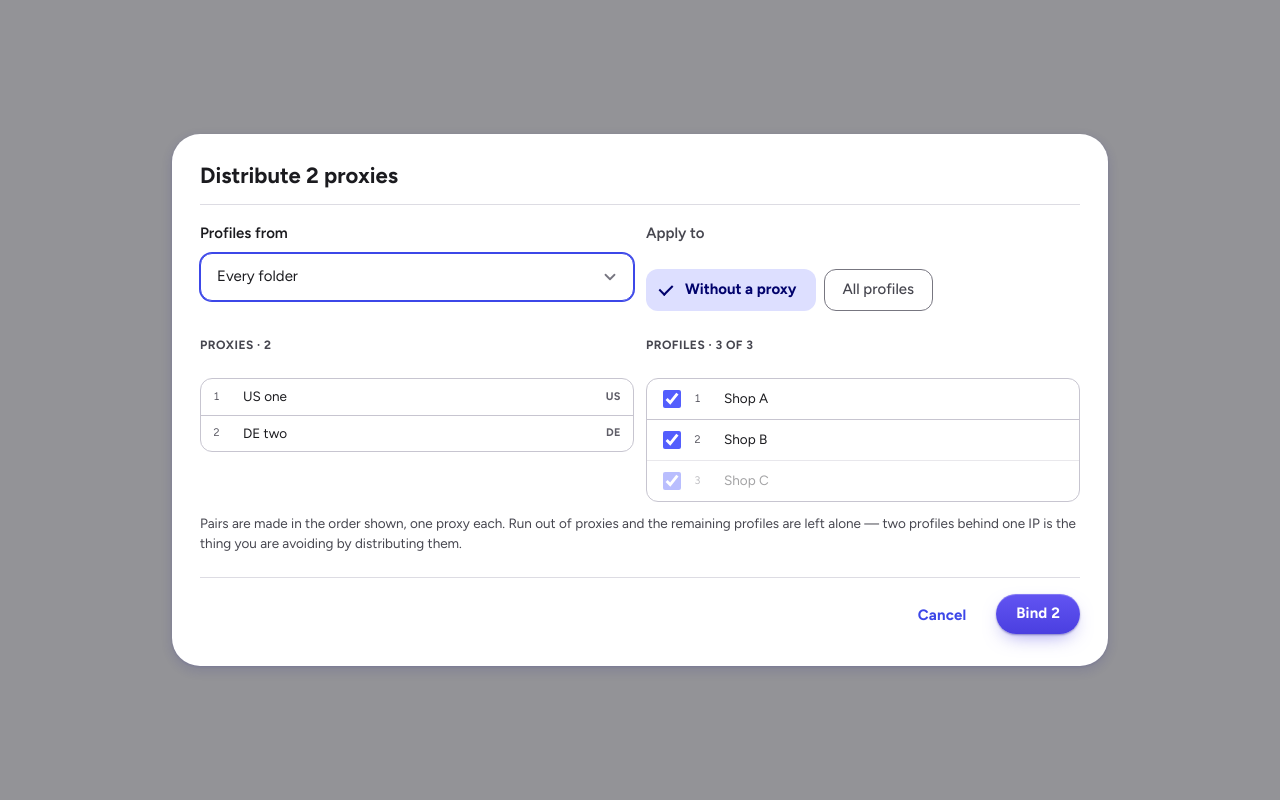
Test: ProxyDistributeModal › warns before replacing proxies when 'All profiles' is chosen
Check: the message is not shown
Click the radio button labelled "All profiles": {"x": 878, "y": 290} [824,269,933,311]
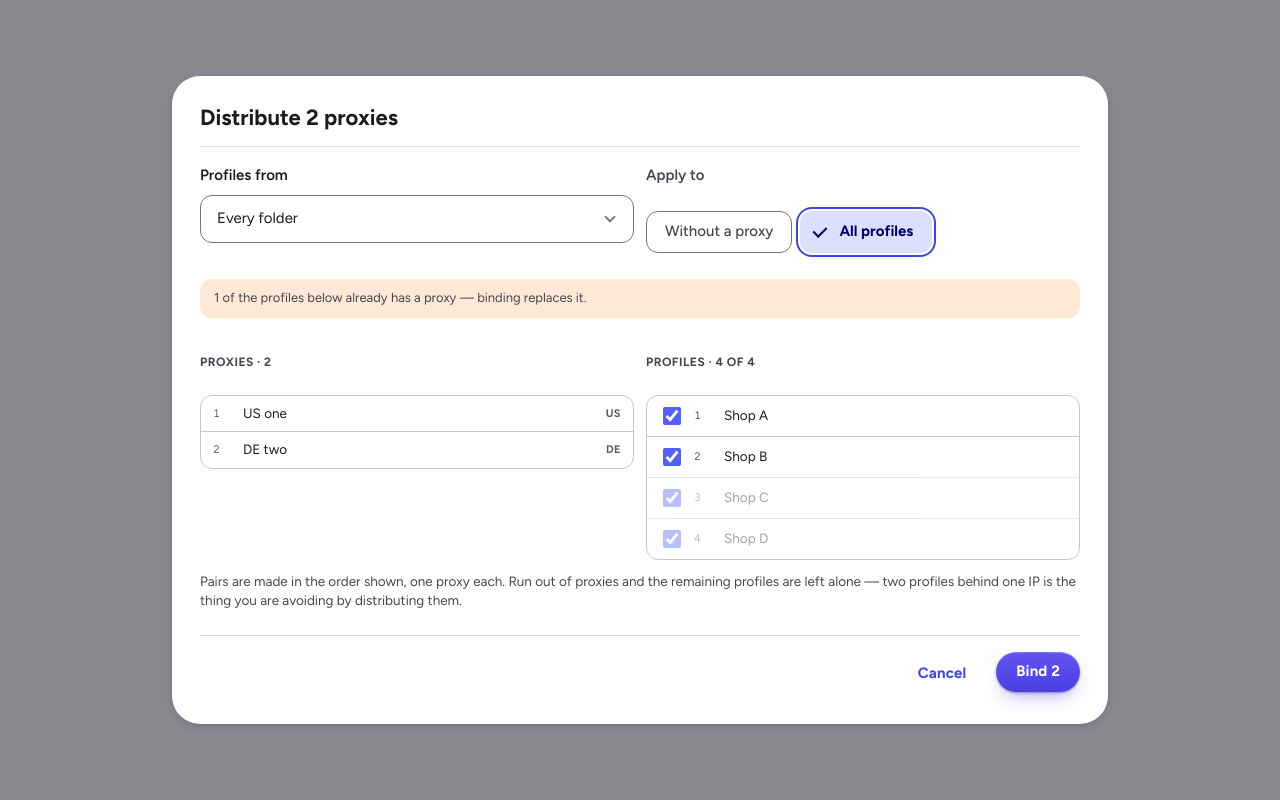
Check: the text "Shop D" is shown, box [724,530,768,546]
Check: the message shows "1 of the profiles below already has a proxy", box [214,290,586,305]
